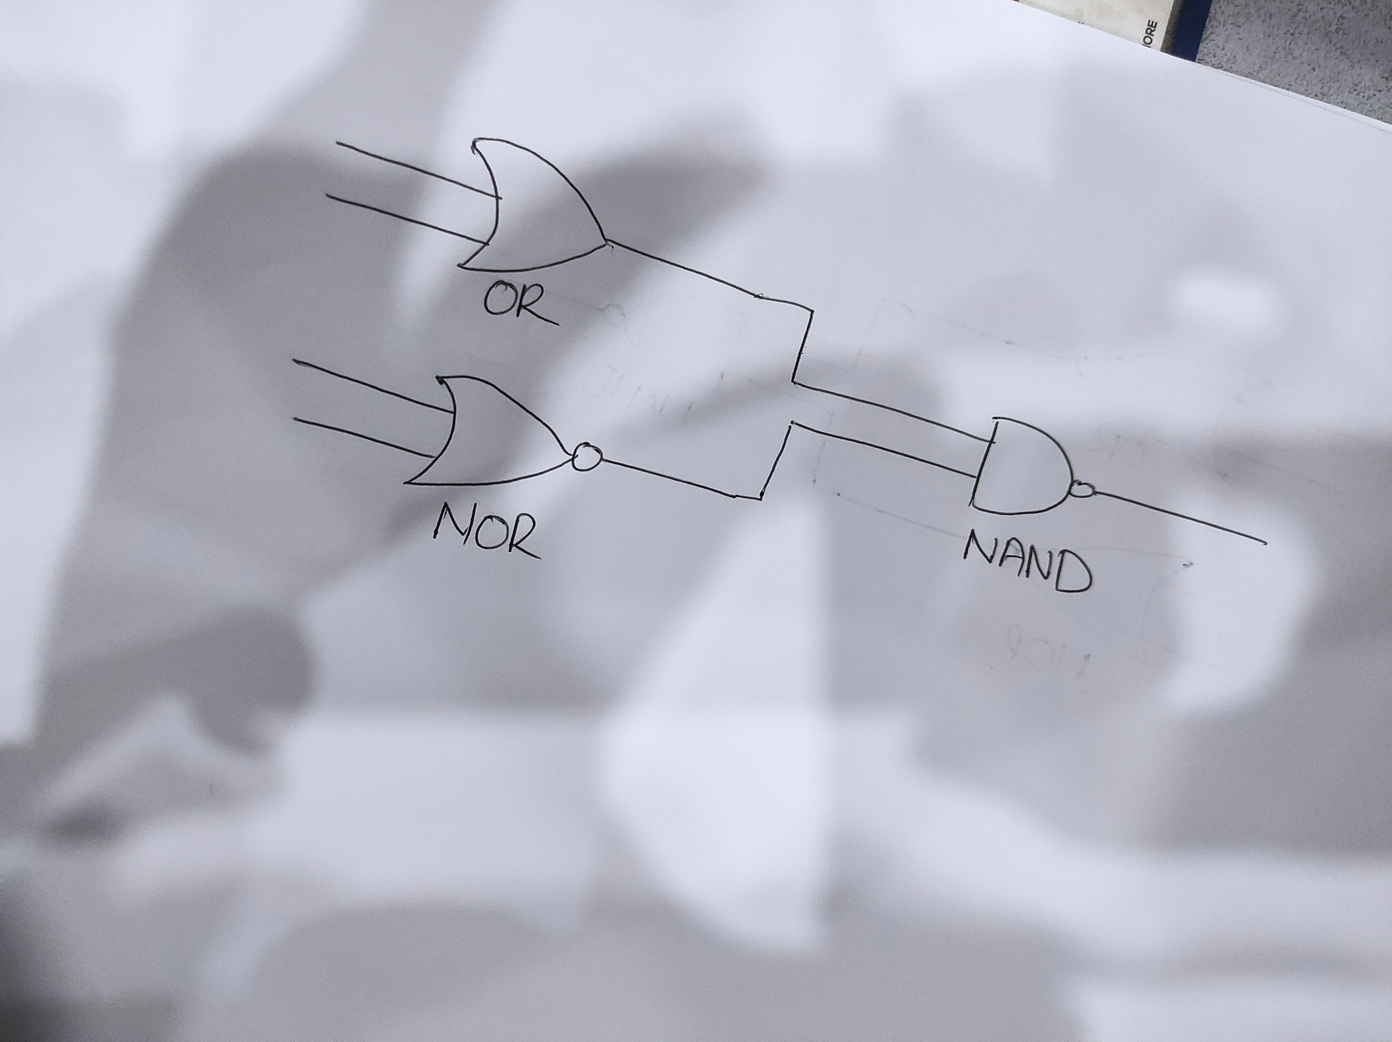junction: (784, 414, 802, 435), (802, 300, 820, 322), (751, 493, 767, 507), (785, 374, 799, 391)
nand: (961, 409, 1102, 522)
nor: (395, 370, 610, 491)
or: (454, 134, 615, 276)
terminal: (285, 350, 305, 372), (286, 410, 303, 429), (329, 134, 346, 152), (320, 186, 333, 202), (1257, 536, 1272, 549)
text: (961, 524, 1095, 598), (429, 499, 544, 563), (480, 276, 560, 327)
